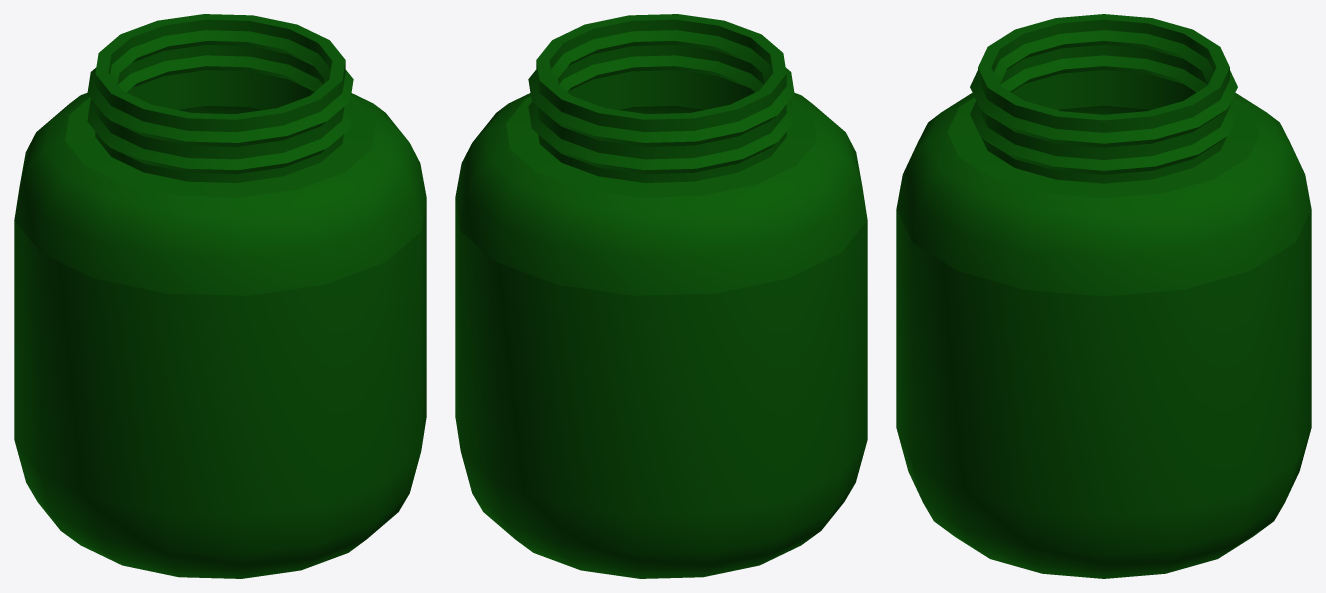
File: befott_green.FBX
The picture shows the model from 3 angles, left to right: view 1: azimuth 30°, elevation 25°; view 2: azimuth 150°, elevation 25°; view 3: azimuth 270°, elevation 25°; orthographic projection.
Visible parts, largest first — view 1: Line001; view 2: Line001; view 3: Line001.
Boxes of the visible parts, x1,y1,x2,y2 form: Line001: (14,14,426,578); Line001: (455,14,867,578); Line001: (896,14,1311,578).
Size of the model in its own units: 52.14 by 62.74 by 52.14.
